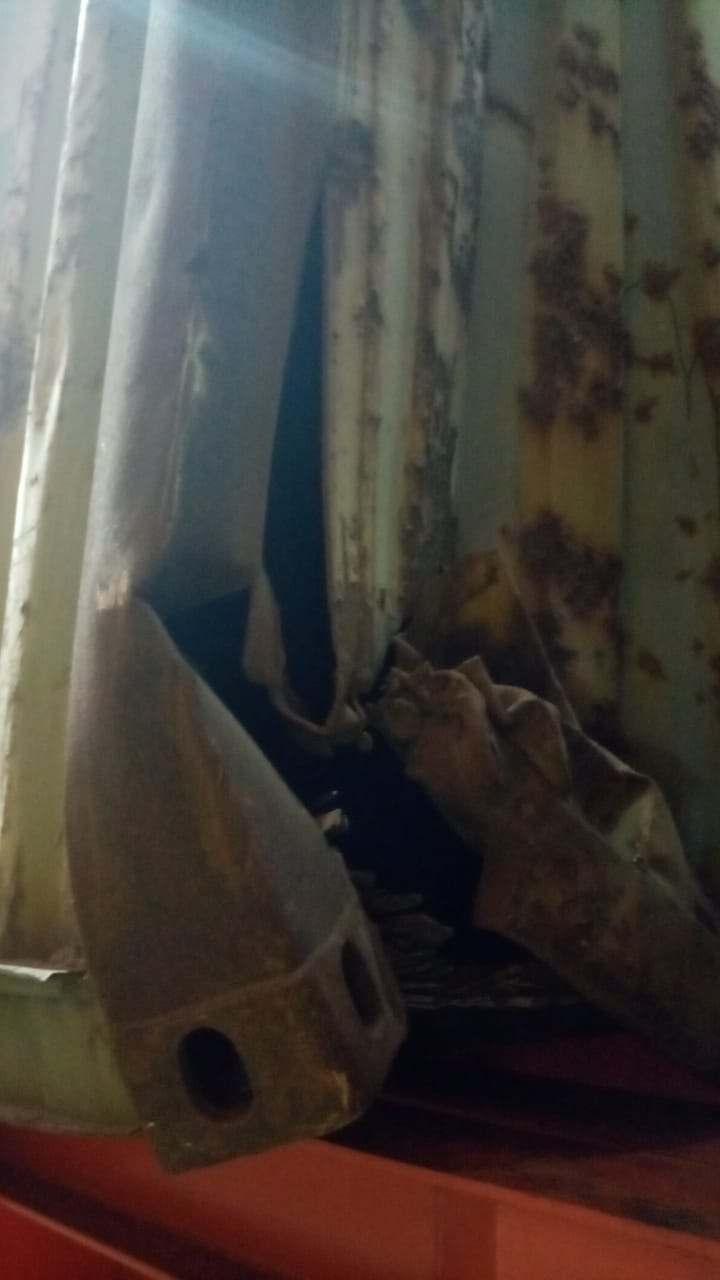dented: (178, 141, 429, 773)
